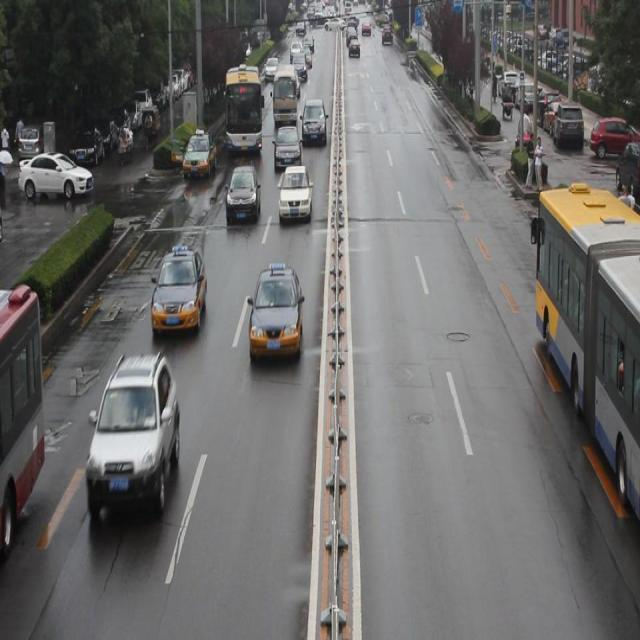car: (87, 354, 180, 512), (148, 242, 206, 332), (250, 268, 304, 361), (225, 162, 259, 223), (277, 168, 312, 218), (183, 134, 216, 184), (301, 100, 326, 148), (272, 126, 301, 166)
truck: (274, 64, 296, 128)
van: (531, 183, 640, 519), (1, 283, 43, 549), (224, 66, 261, 156)
